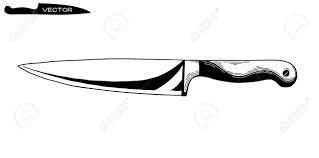Knife: (17, 57, 297, 96)
